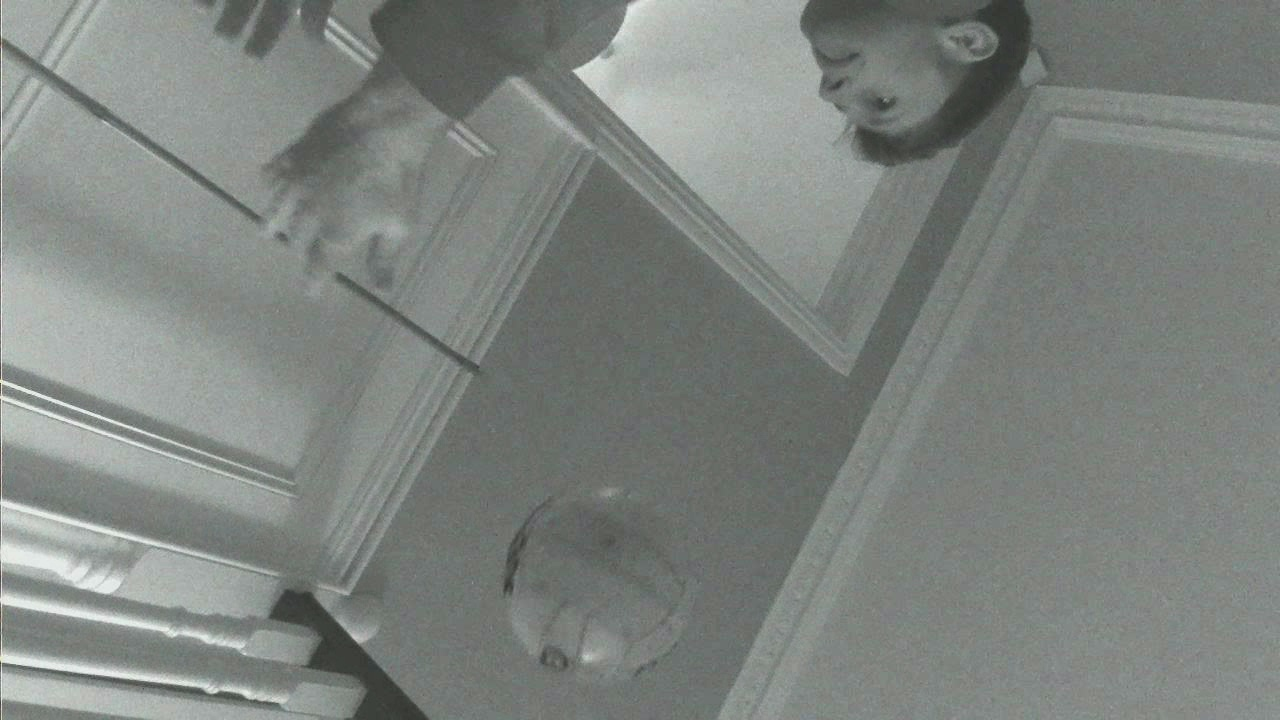Football-Spotter: (502, 487, 697, 682)
